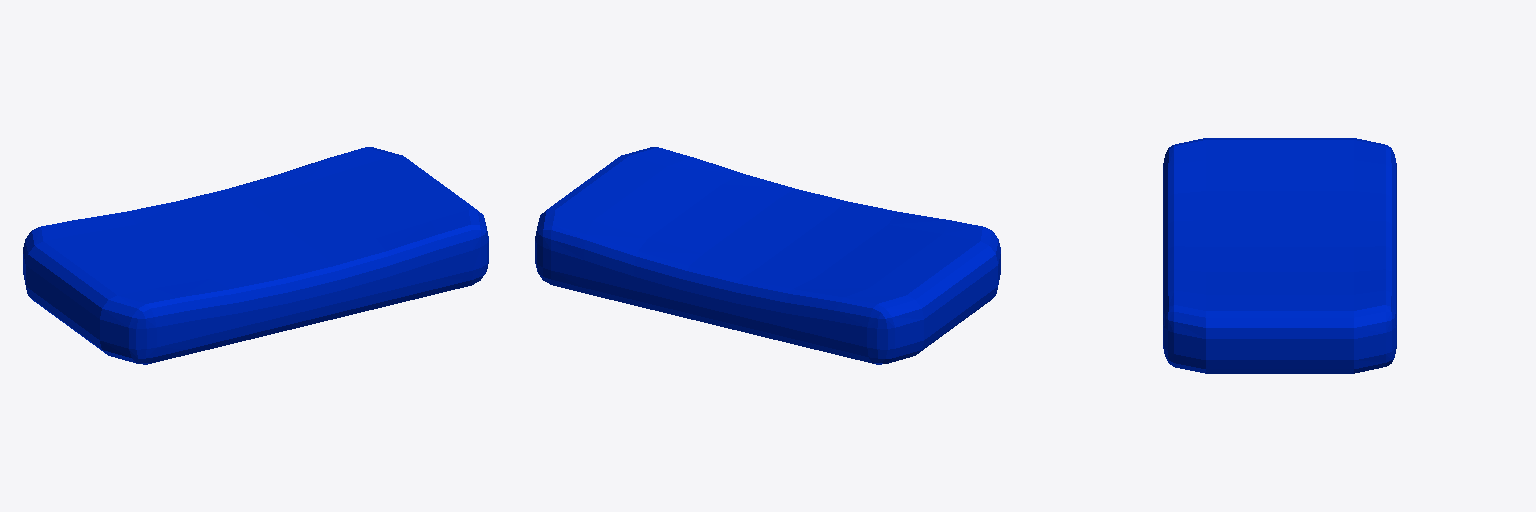
The model's file is BluePillow.obj.
The picture shows the model from 3 angles: view 1: azimuth 30°, elevation 25°; view 2: azimuth 150°, elevation 25°; view 3: azimuth 270°, elevation 25°; orthographic projection.
Parts seen in each view (by area): view 1: Blue_Soft_Plane.014; view 2: Blue_Soft_Plane.014; view 3: Blue_Soft_Plane.014.
Boxes of the visible parts, x1,y1,x2,y2 form: Blue_Soft_Plane.014: [23, 147, 488, 364]; Blue_Soft_Plane.014: [535, 147, 1000, 364]; Blue_Soft_Plane.014: [1163, 138, 1396, 373].
Bounding box in the file's own units: 0.3722 × 0.0561 × 0.1957.